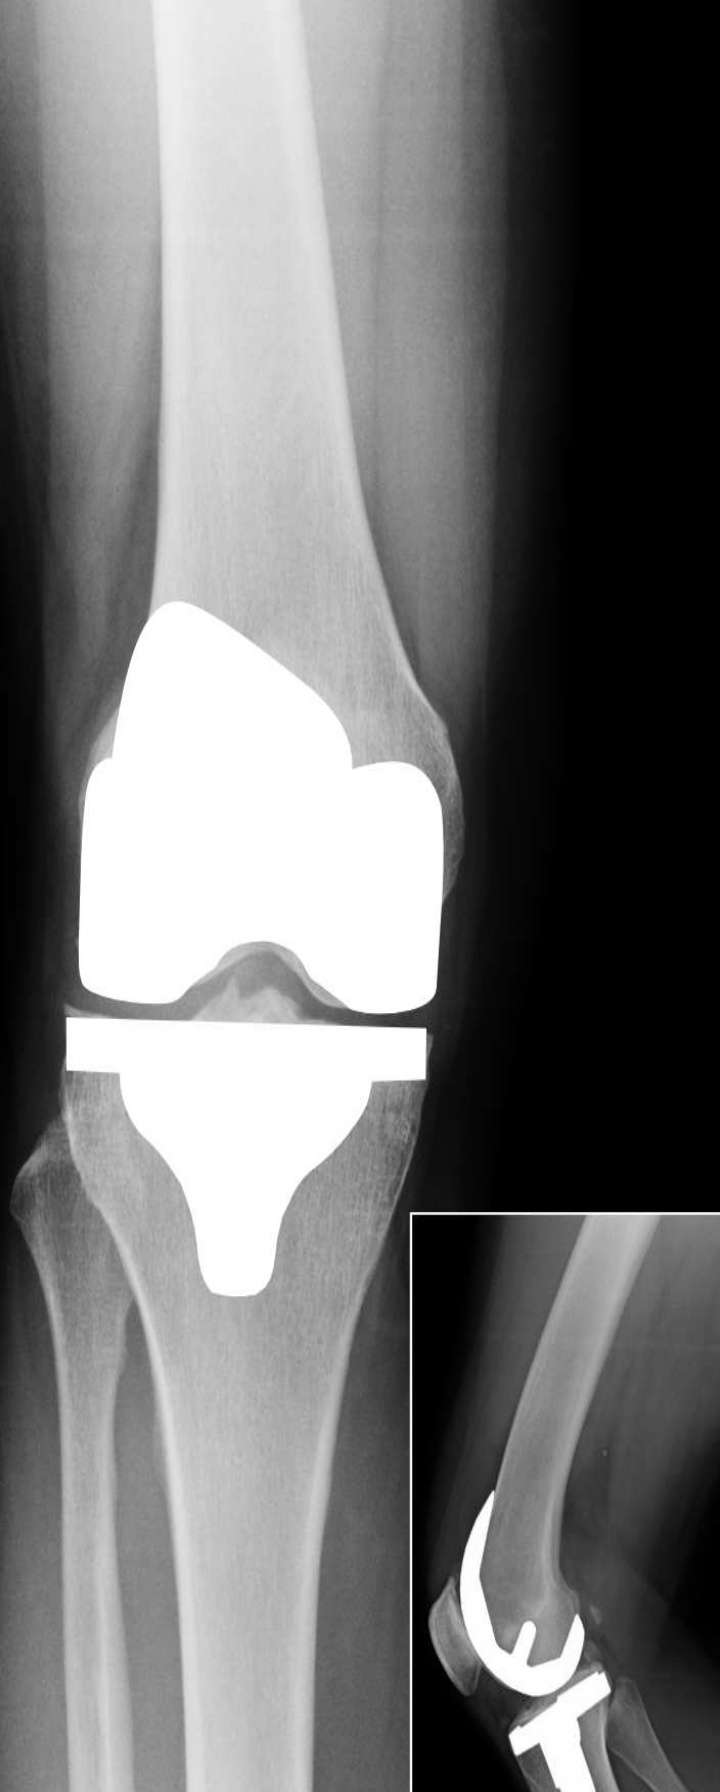Knee-Triathlon-Stryker: (57, 585, 453, 1307), (457, 1466, 616, 1792)
